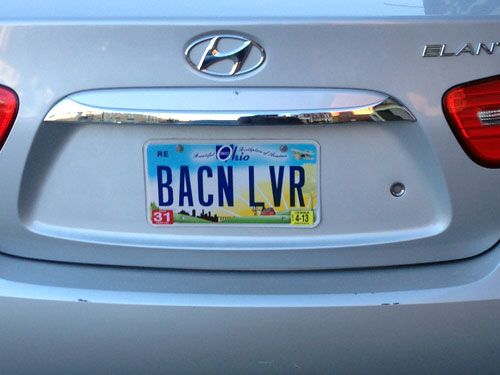number_plates: (148, 144, 319, 224)
